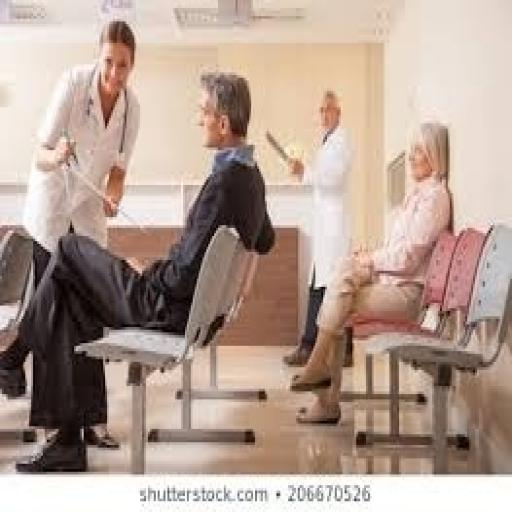sitting: (0, 64, 276, 471), (288, 118, 452, 426)
